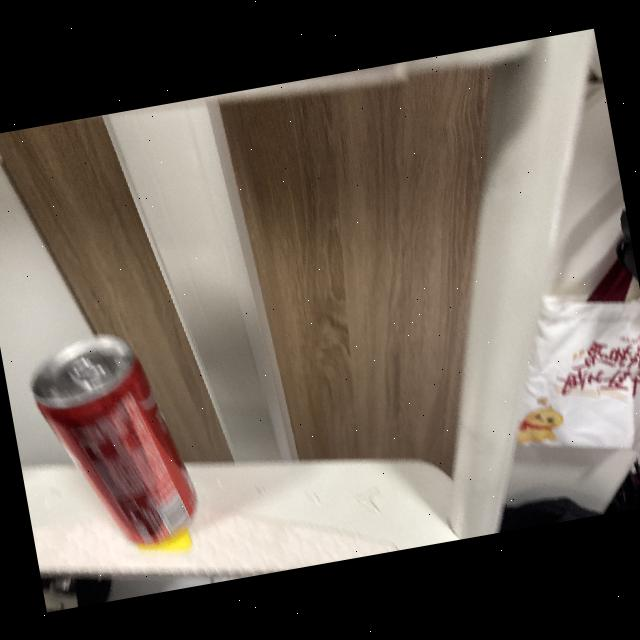Cola: (18, 316, 210, 569)
